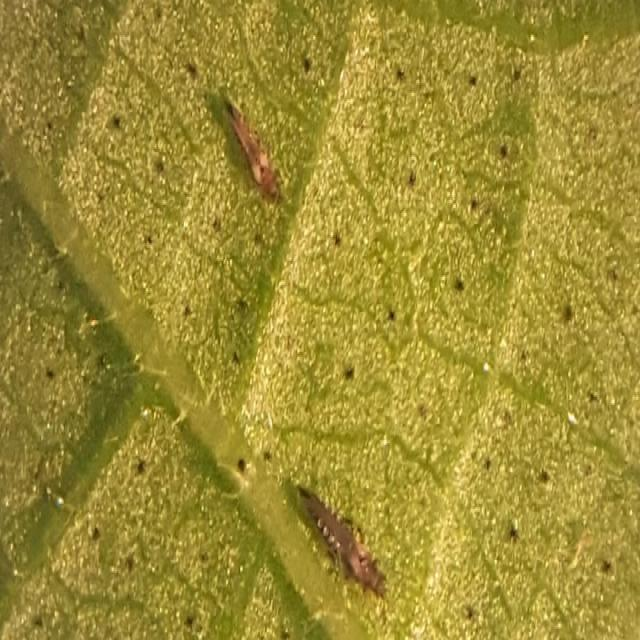Thrip-Adult-: (282, 466, 398, 598), (207, 81, 274, 199)
